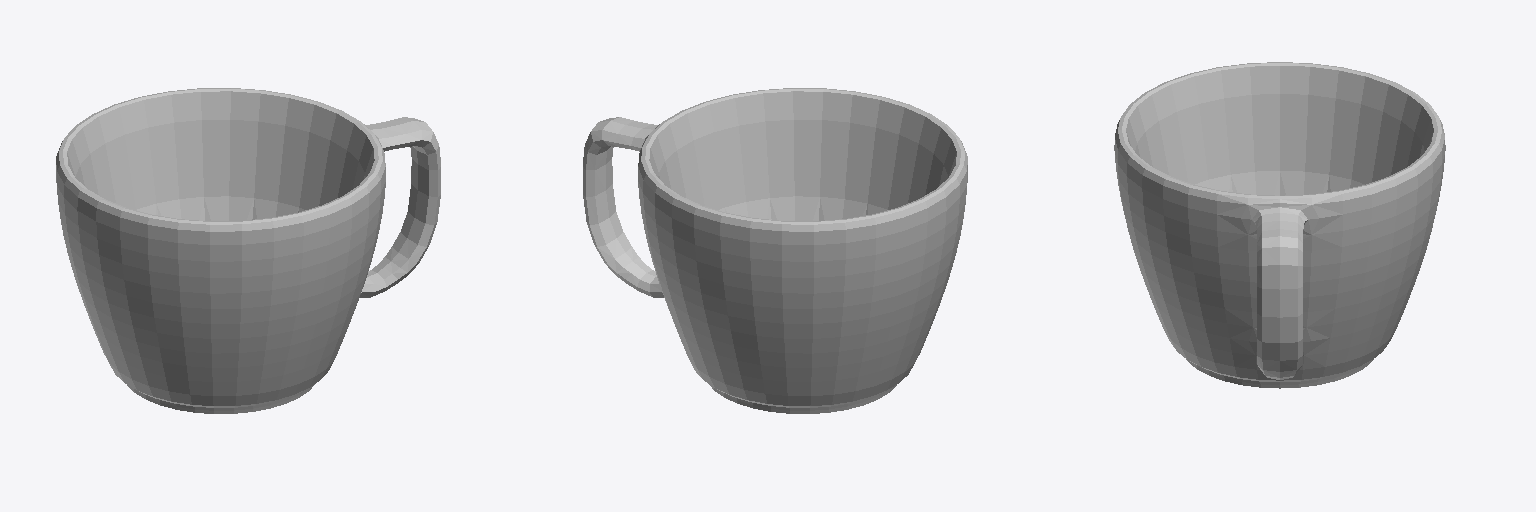
The model's file is mug.obj.
3 renders of one model, left to right at view 1: azimuth 30°, elevation 25°; view 2: azimuth 150°, elevation 25°; view 3: azimuth 270°, elevation 25°, orthographic.
Parts seen in each view (by area): view 1: mug_mug_default; view 2: mug_mug_default; view 3: mug_mug_default.
Boxes of the visible parts, box(x1,y1,x2,y2) form: mug_mug_default: box(56, 88, 440, 413); mug_mug_default: box(583, 88, 967, 413); mug_mug_default: box(1114, 62, 1445, 388).
Size of the model in its own units: 3.64 by 2.13 by 2.93.